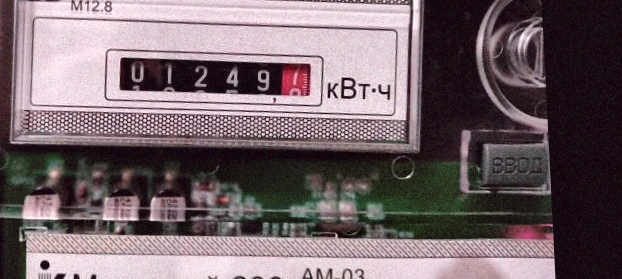0: (128, 57, 146, 84)
1: (160, 59, 175, 86)
2: (190, 63, 209, 90)
4: (223, 63, 241, 88)
7: (287, 61, 304, 87)
9: (253, 66, 271, 93)
screen: (100, 36, 328, 121)
